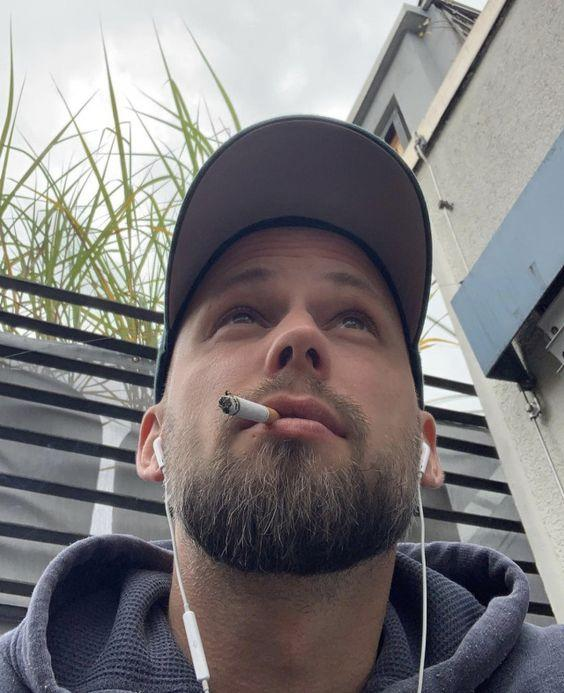cigarette: (218, 394, 279, 424)
